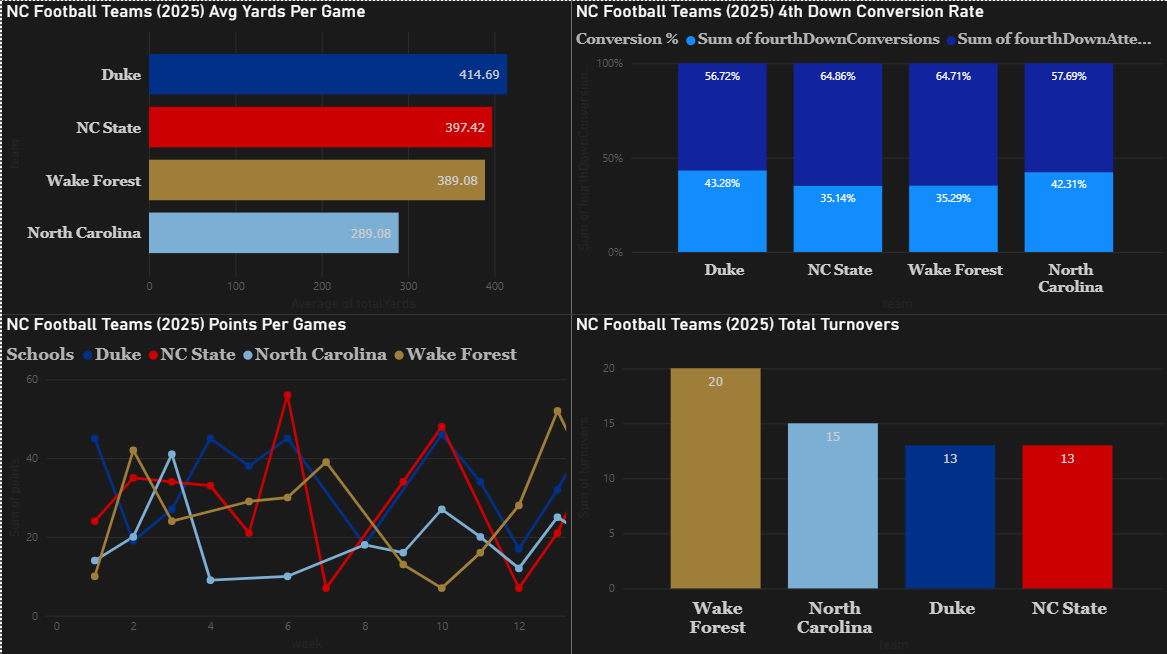

Layout of this report page (visuals, bound fields, positions):
{"tool":"powerbi","page":{"name":"Page 1","canvas":[1280,720],"ordinal":0},"visuals":[{"type":"lineChart","title":"NC Football Teams (2025) Points Per Games","fields":{"Category":["nc_teams_2025.week"],"Y":["Sum(nc_teams_2025.points)"],"Series":["nc_teams_2025.team"]},"box":[0,345,625,375],"z":0},{"type":"clusteredBarChart","title":"NC Football Teams (2025) Avg Yards Per Game","fields":{"Category":["nc_teams_2025.team"],"Y":["Avg(nc_teams_2025.totalYards)"]},"box":[0,0,625,345],"z":1000},{"type":"clusteredColumnChart","title":"NC Football Teams (2025) Total Turnovers","fields":{"Category":["nc_teams_2025.team"],"Y":["Sum(nc_teams_2025.turnovers)"]},"box":[625,345,655,375],"z":2000},{"type":"hundredPercentStackedColumnChart","title":"NC Football Teams (2025) 4th Down Conversion Rate","fields":{"Category":["nc_teams_2025.team"],"Y":["Sum(nc_teams_2025.fourthDownConversions)","Sum(nc_teams_2025.fourthDownAttempts)"]},"box":[625,0,655,345],"z":3000}]}

Visuals, with their boxes in screenshot pixels (x1, y1, x2, y2), scaled from the page's 1280x720 canvas onto the 1167x654 screenshot:
"NC Football Teams (2025) Points Per Games" lineChart: locate(0, 313, 570, 653)
"NC Football Teams (2025) Avg Yards Per Game" clusteredBarChart: locate(0, 0, 570, 313)
"NC Football Teams (2025) Total Turnovers" clusteredColumnChart: locate(570, 313, 1166, 653)
"NC Football Teams (2025) 4th Down Conversion Rate" hundredPercentStackedColumnChart: locate(570, 0, 1166, 313)
